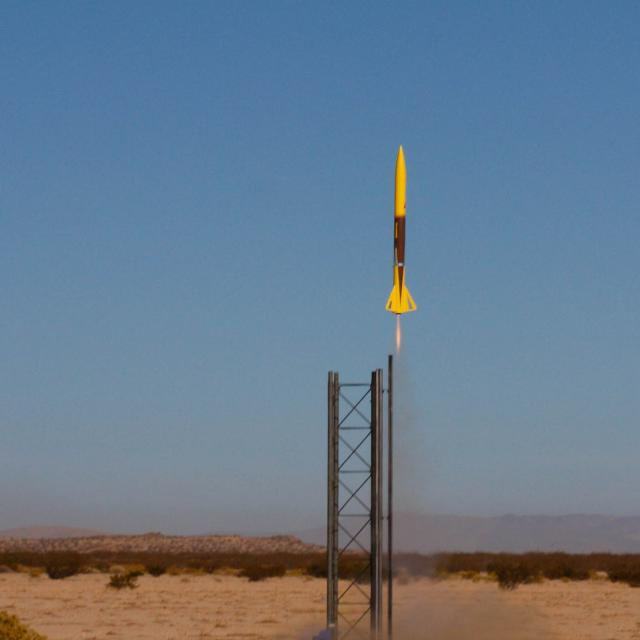Rocket: (385, 144, 417, 316)
